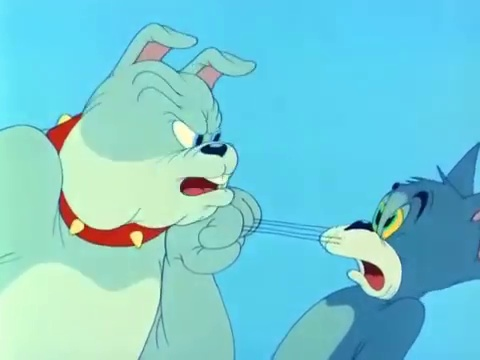spike: (46, 16, 261, 248)
tom: (320, 134, 480, 305)
